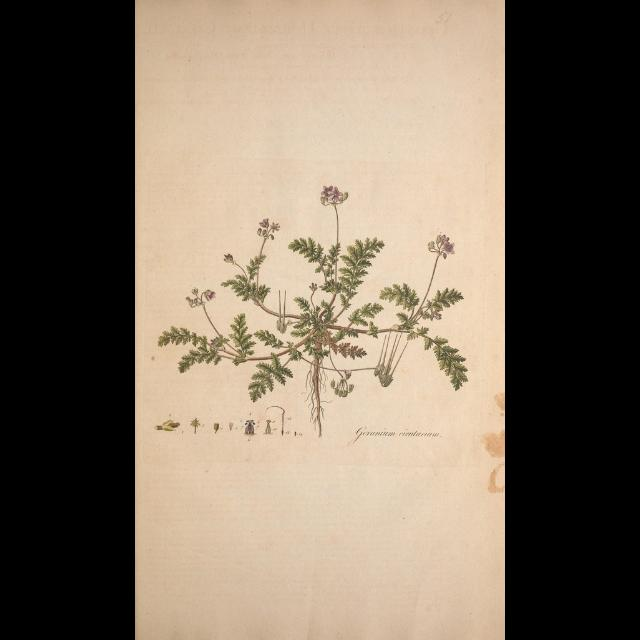Flower: (317, 182, 348, 208), (429, 231, 457, 257)
